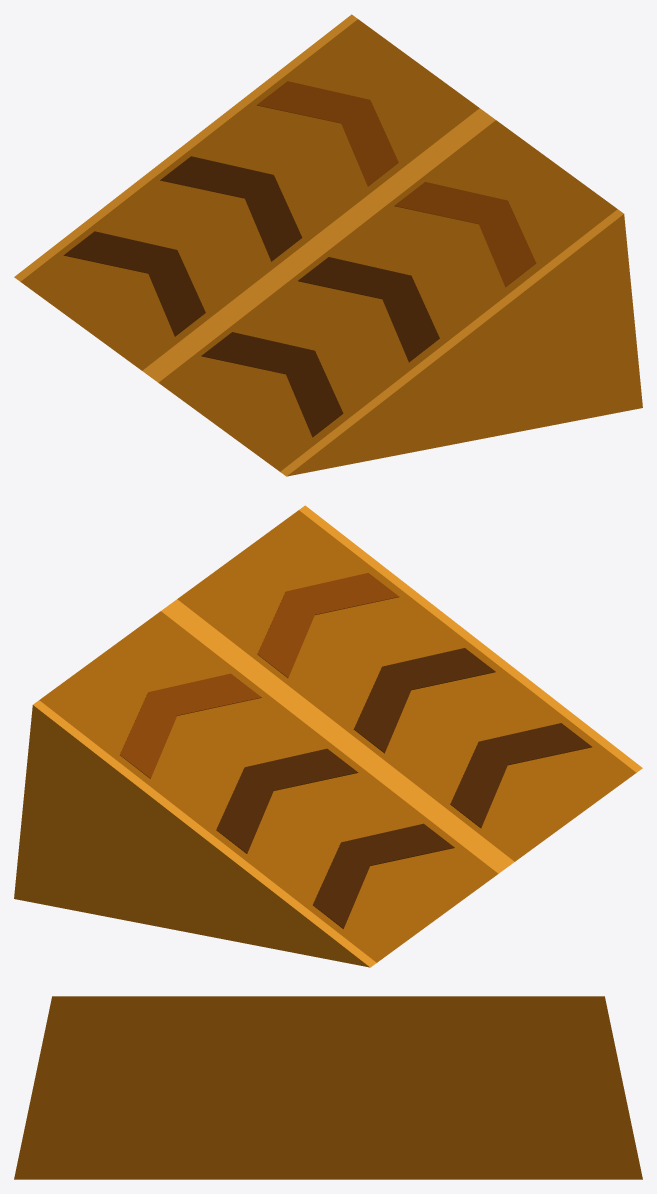
The model's file is ramp.fbx.
The picture shows the model from 3 angles, top to bottom: view 1: azimuth 30°, elevation 25°; view 2: azimuth 150°, elevation 25°; view 3: azimuth 270°, elevation 25°; orthographic projection.
Parts seen in each view (by area): view 1: Box001, Box007, Box003, Box005, Box002, Box004, Box006; view 2: Box001, Box007, Box002, Box004, Box003, Box005, Box006; view 3: Box001.
Boxes of the visible parts, x1,y1,x2,y2 form: Box001: (14,14,642,476); Box007: (394,182,536,287); Box003: (160,156,302,261); Box005: (201,332,343,437); Box002: (63,231,205,336); Box004: (257,81,398,186); Box006: (298,257,439,362); Box001: (14,505,642,967); Box007: (257,573,399,677); Box002: (313,823,454,928); Box004: (120,673,261,778); Box003: (216,748,358,853); Box005: (450,723,591,828); Box006: (353,648,495,753); Box001: (14,996,642,1179).
Bounding box in the file's own units: 52.6 × 26.85 × 83.64.
